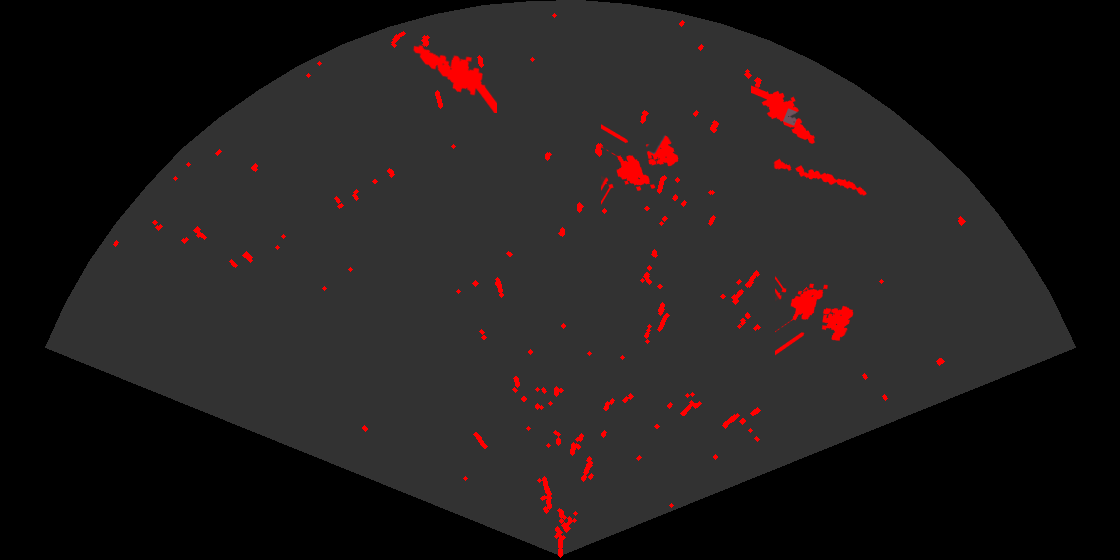cage: (775, 275, 855, 357), (601, 123, 680, 206)
chain: (771, 157, 868, 197)
frogman: (411, 43, 497, 113), (751, 84, 817, 146)
